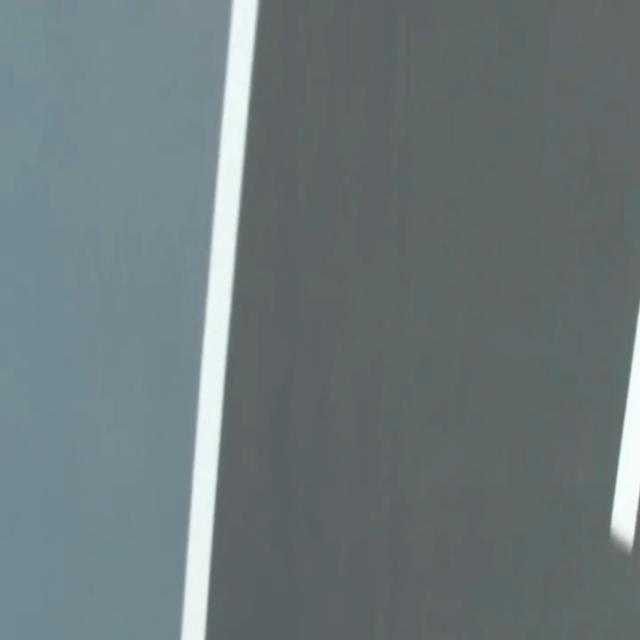center: (611, 305, 639, 551)
left: (180, 0, 259, 639)
